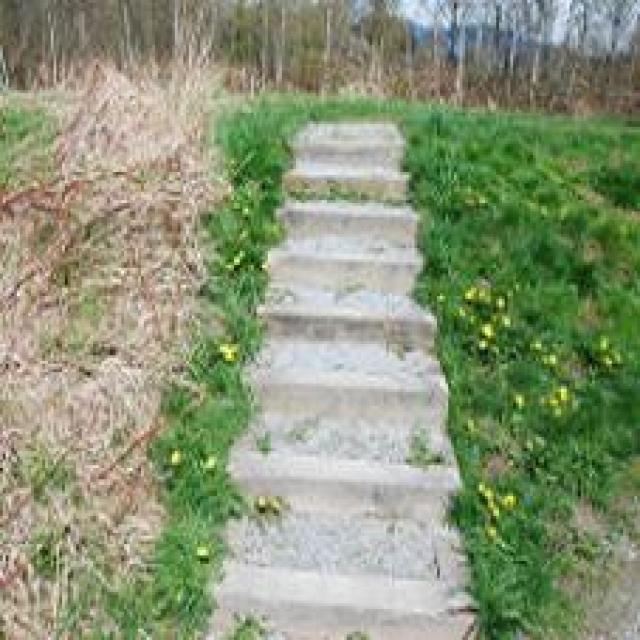stair: (228, 222, 467, 618)
